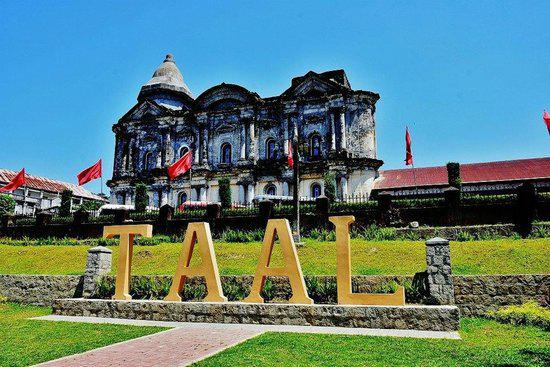taal_basilica_church_taal_batangas: (109, 47, 378, 212)
